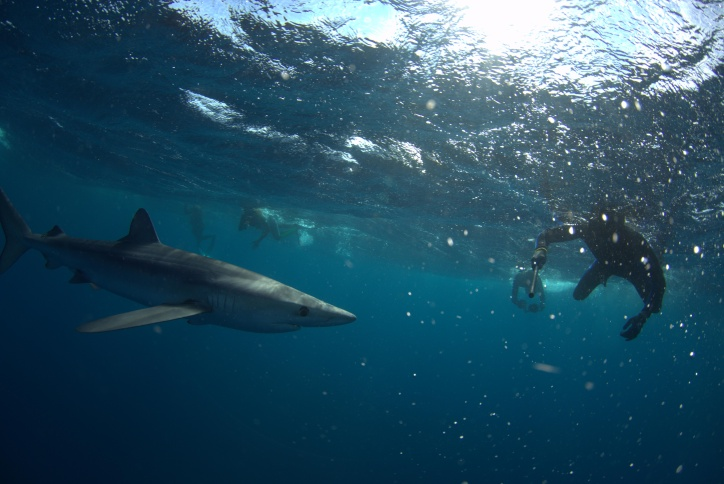Azul: (2, 183, 363, 363)
